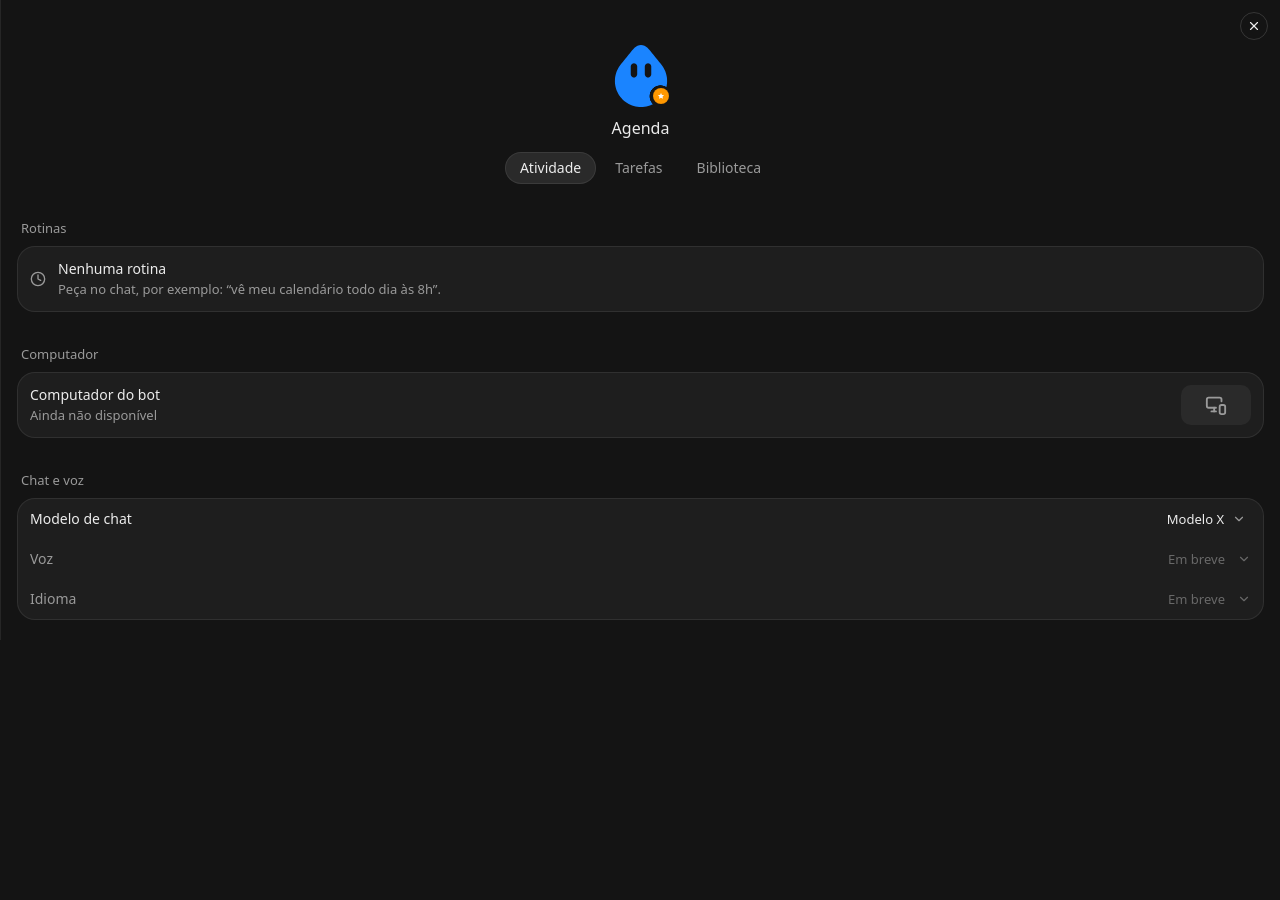
Test: the Rotinas list › changes the bot's chat model from the Chat e voz card, which also holds the voice ornament
Later steps or results of the test are not shown.
Click the dropdown with test id "chat-model".
click(1206, 519)  # box x1=1154 y1=503 x2=1259 y2=535
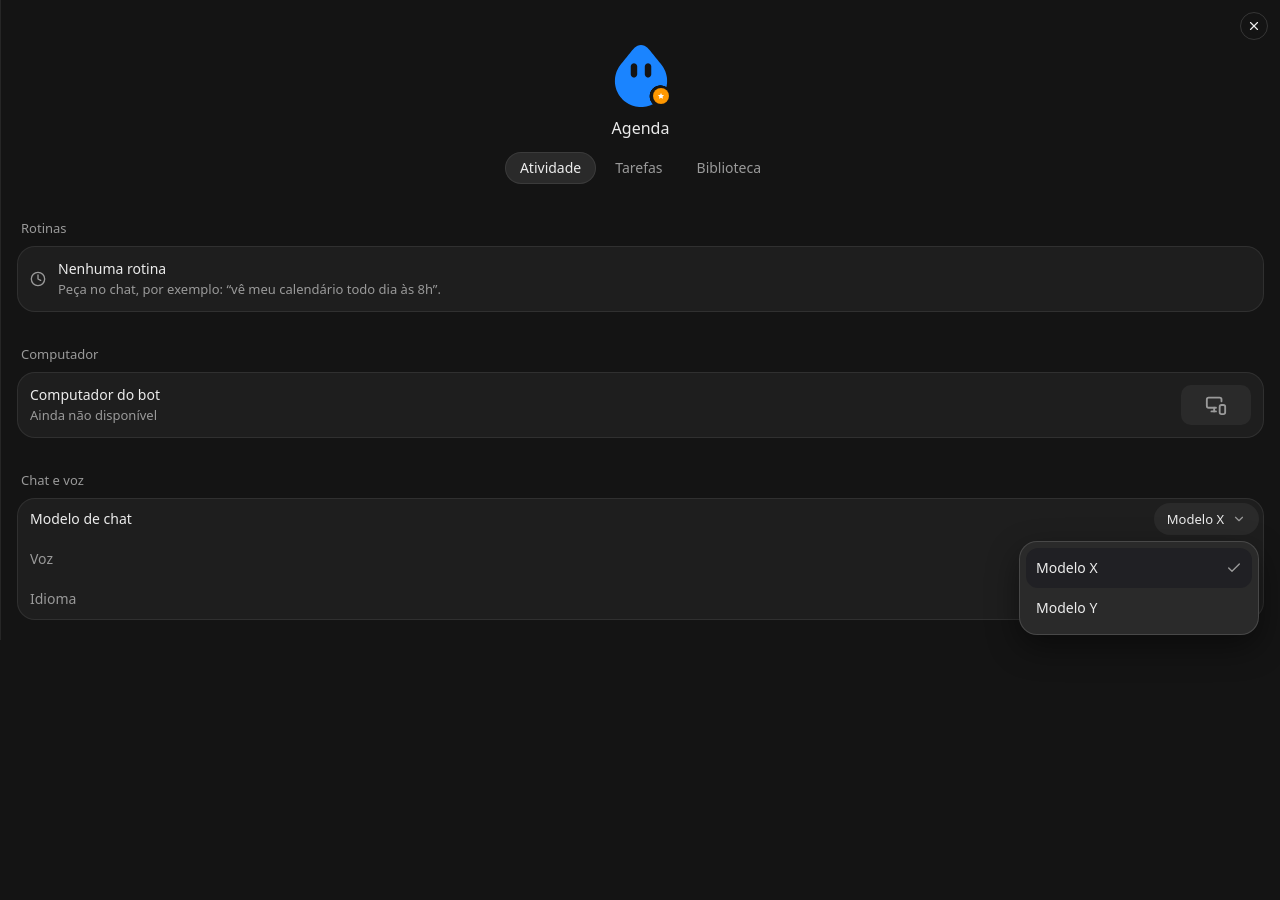
Result: the options read "Modelo X", "Modelo Y", in this order at x1=1026 y1=548 x2=1252 y2=588; x1=1036 y1=598 x2=1097 y2=617
